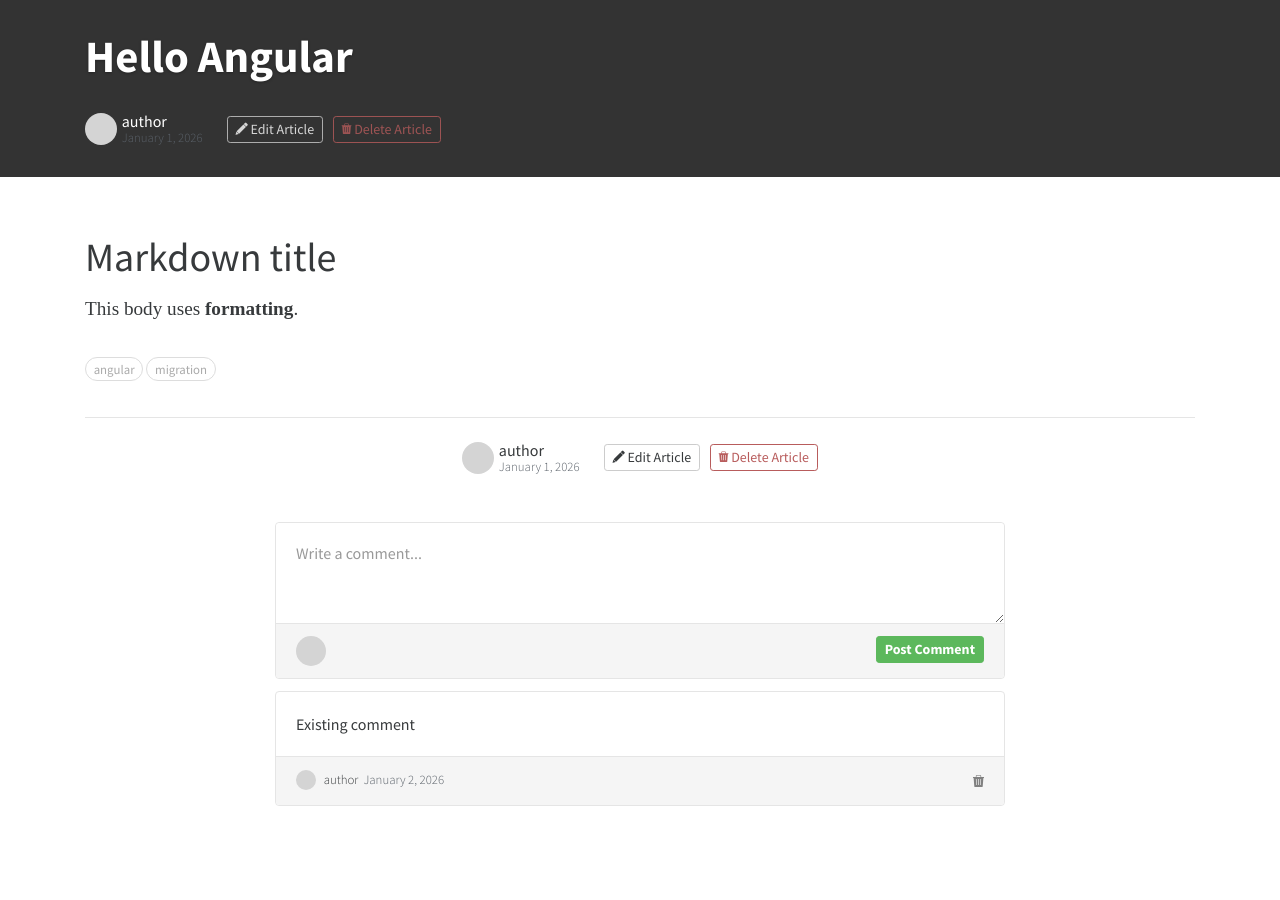
it: ArticleComponent › shows API validation errors when comment creation fails
This screenshot has width=1280, height=900.
Type "Bad comment" into the text box with placeholder "Write a comment..." at (640, 573), box [276,523,1004,623]
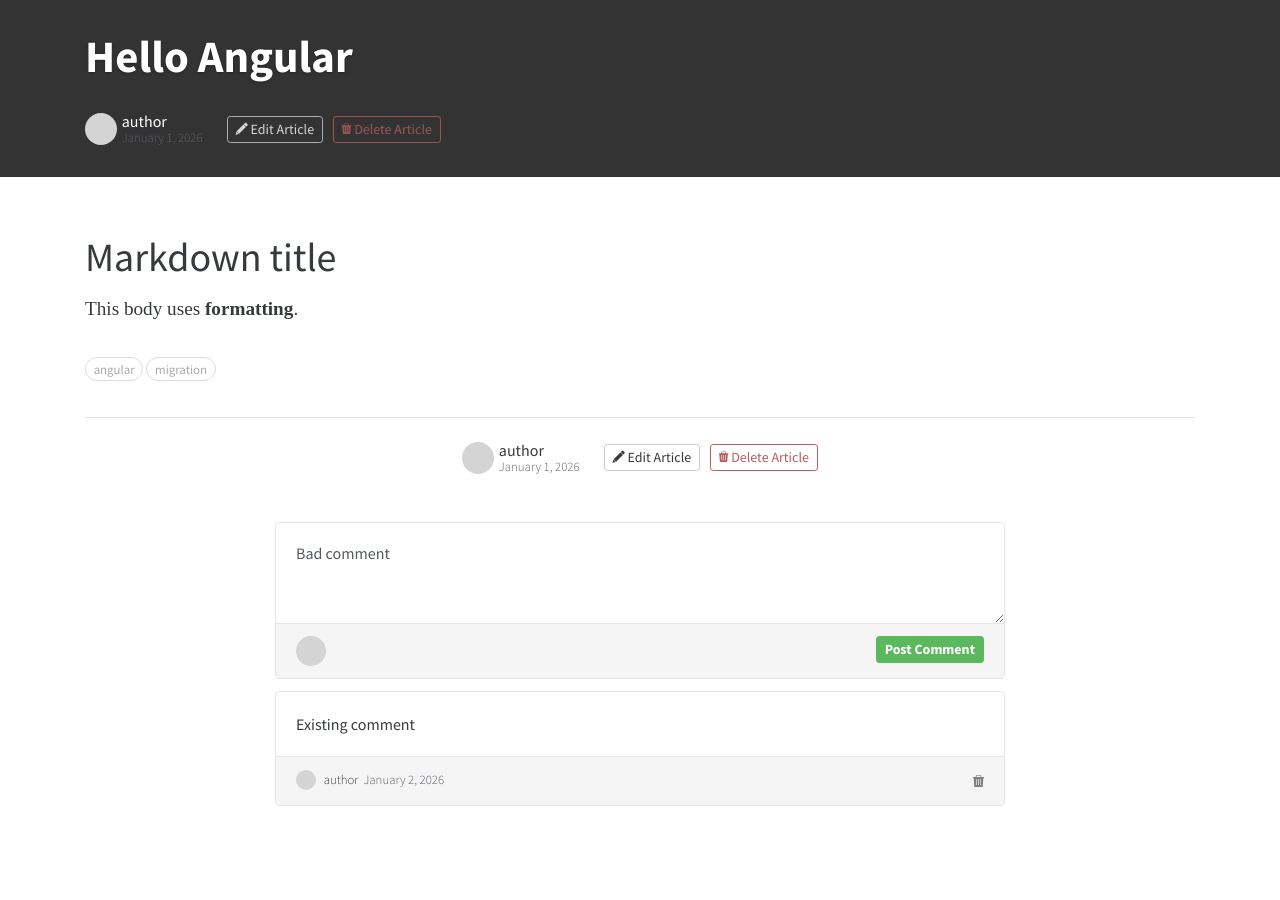
Submit the form with class "comment-form", box [275,522,1005,679]
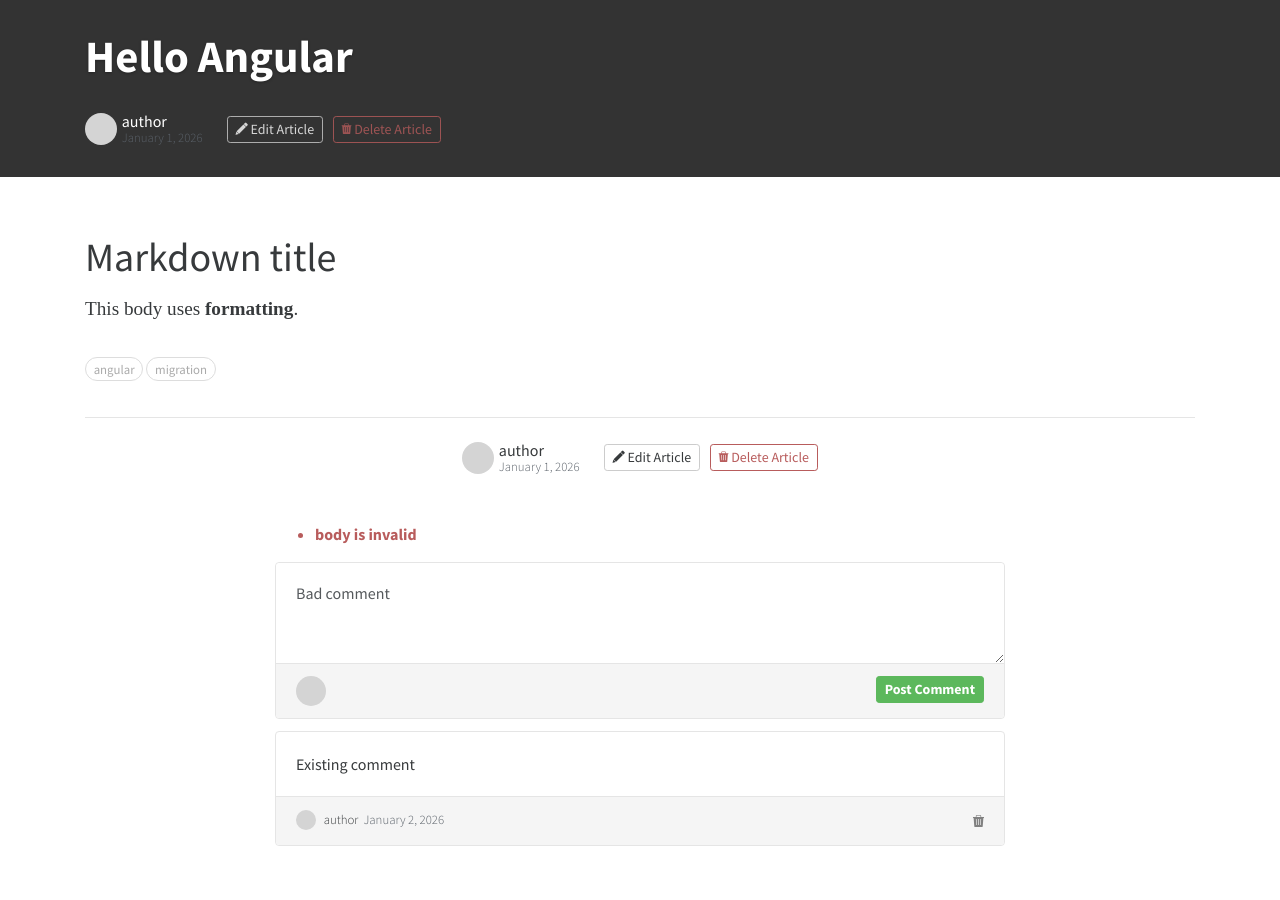
Now the text "body is invalid" is shown, box [315,524,417,544]
